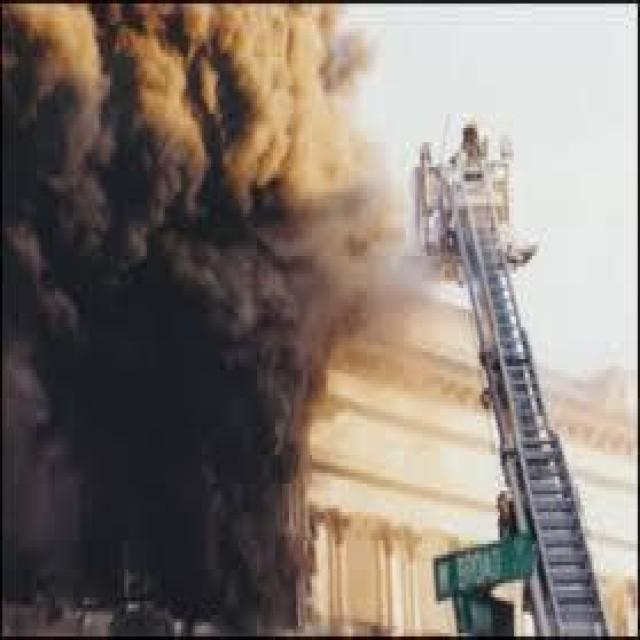Smoke: (8, 0, 374, 640)
